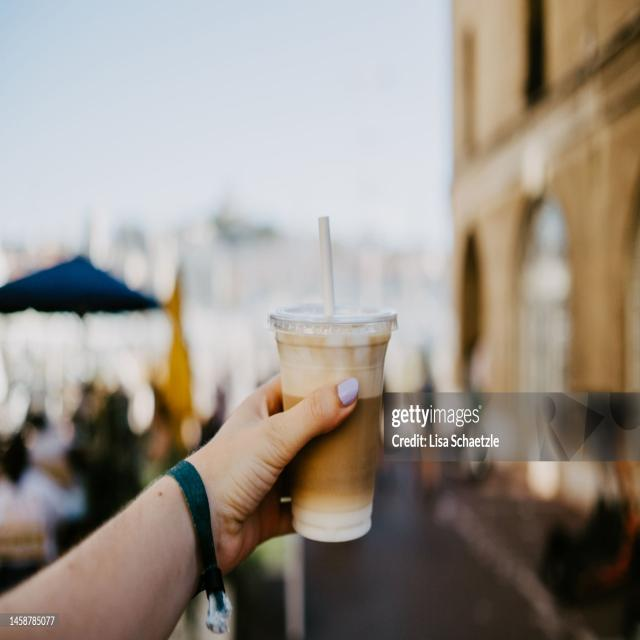cup: (265, 301, 397, 542)
